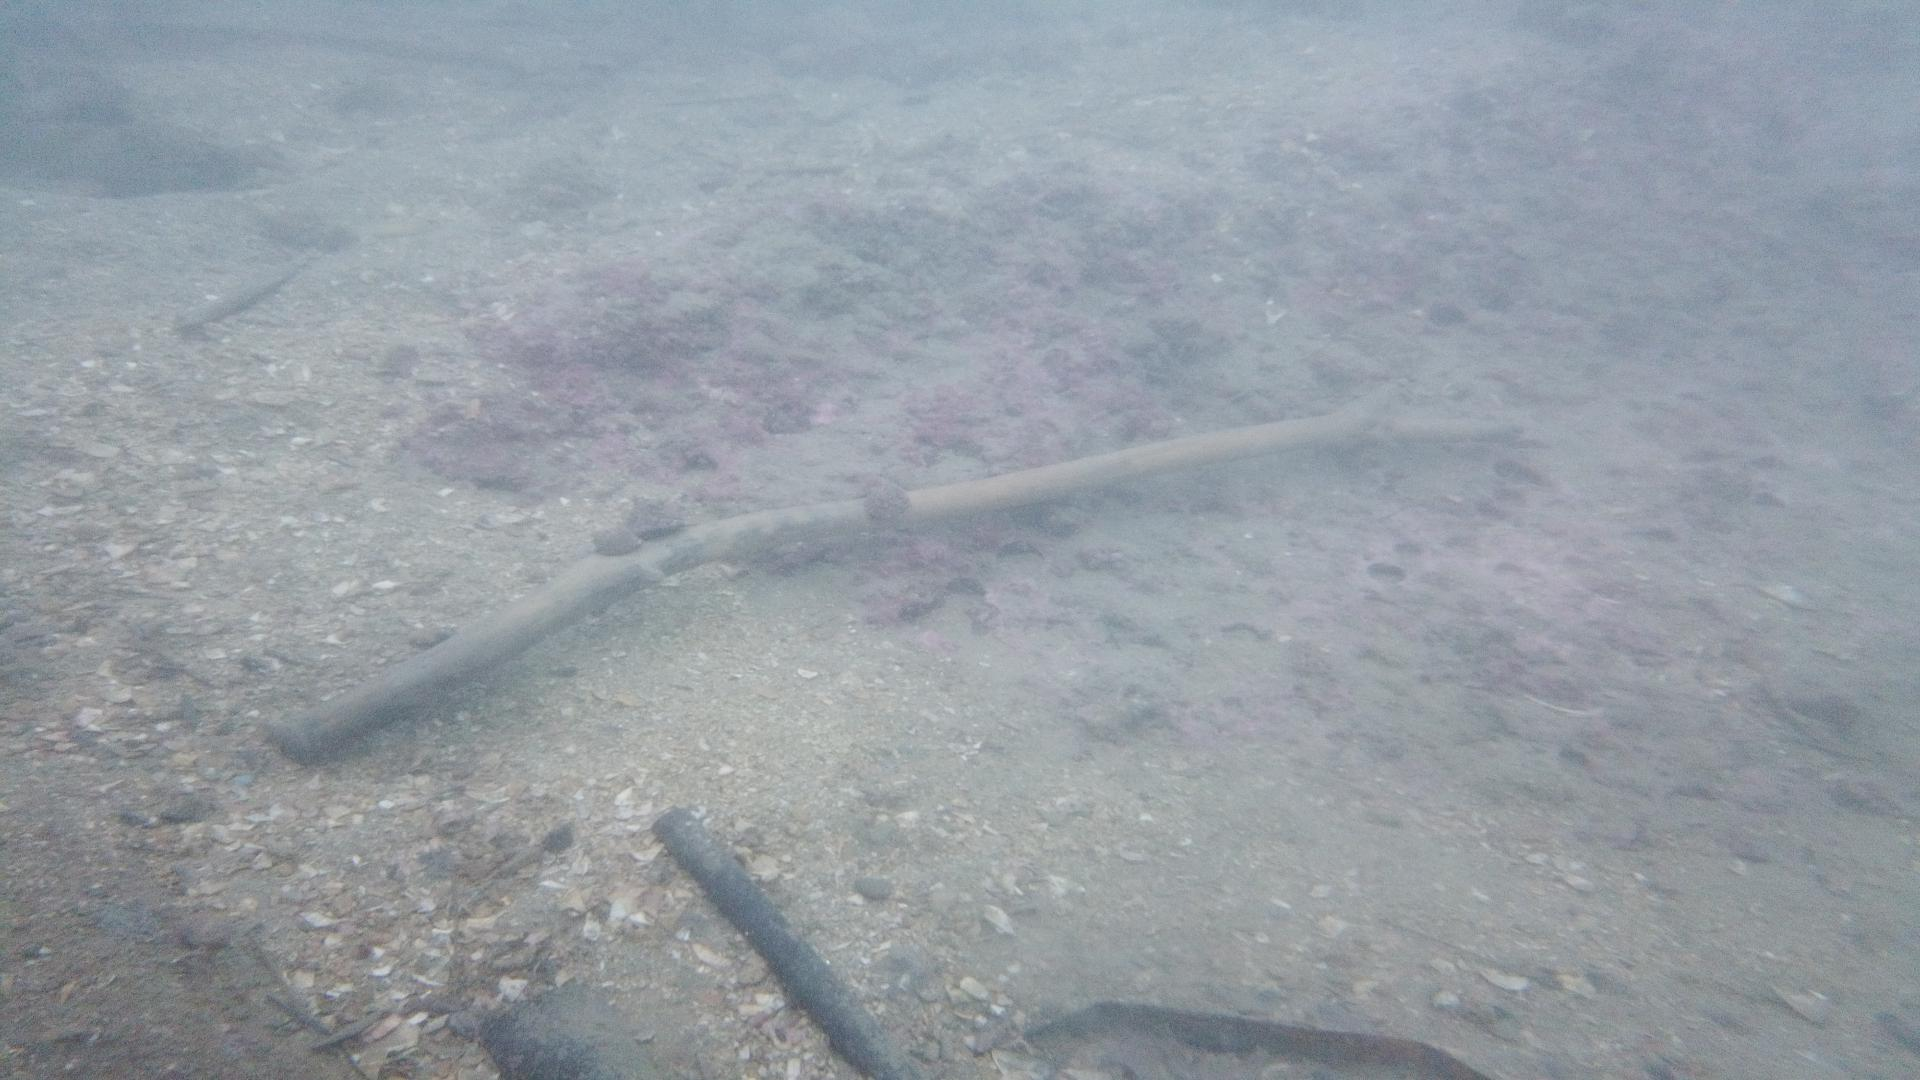wood: (268, 404, 1524, 762)
